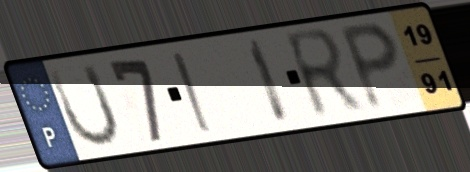7: (105, 58, 165, 145)
I: (244, 36, 295, 126), (168, 48, 217, 135)
P: (335, 19, 404, 115)
R: (279, 24, 369, 124)
U: (45, 60, 123, 150)
